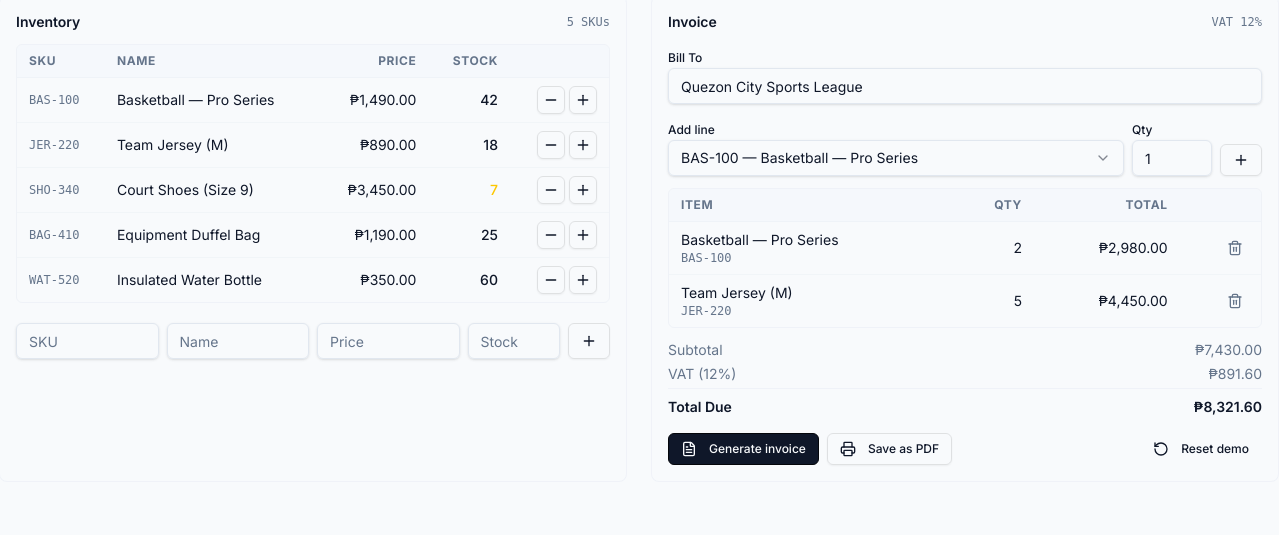
Scenario: ErpDemo (component) › reset restores seed inventory and seed invoice lines
Click the button named "Increase stock for Basketball — Pro Series": [583, 100] box x1=569 y1=86 x2=597 y2=114
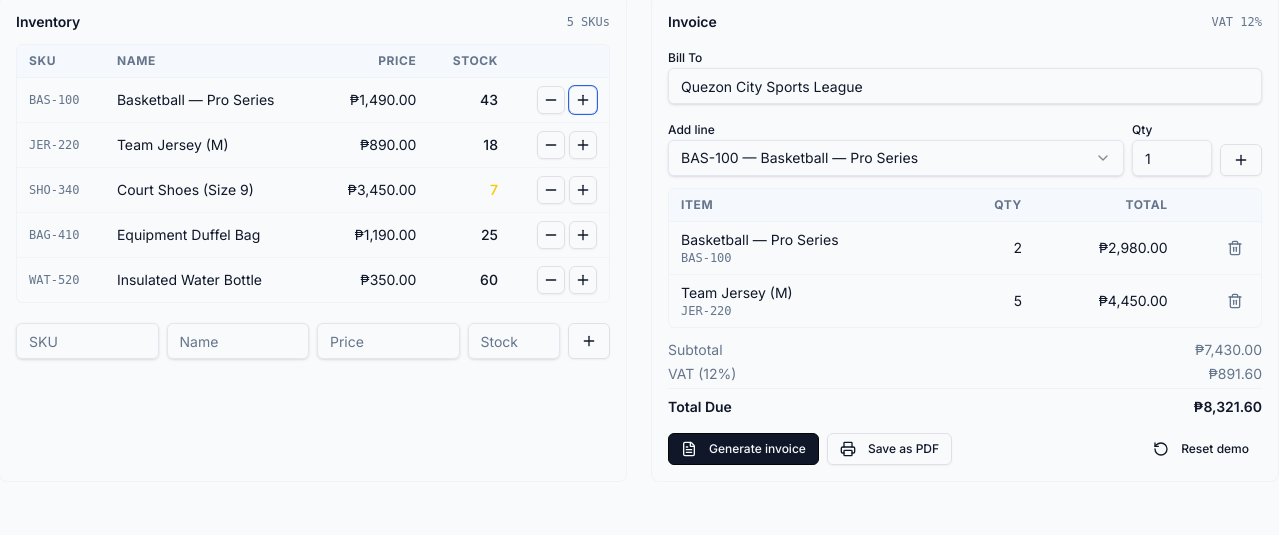
Click the button named "Increase stock for Basketball — Pro Series": [583, 100] box x1=569 y1=86 x2=597 y2=114
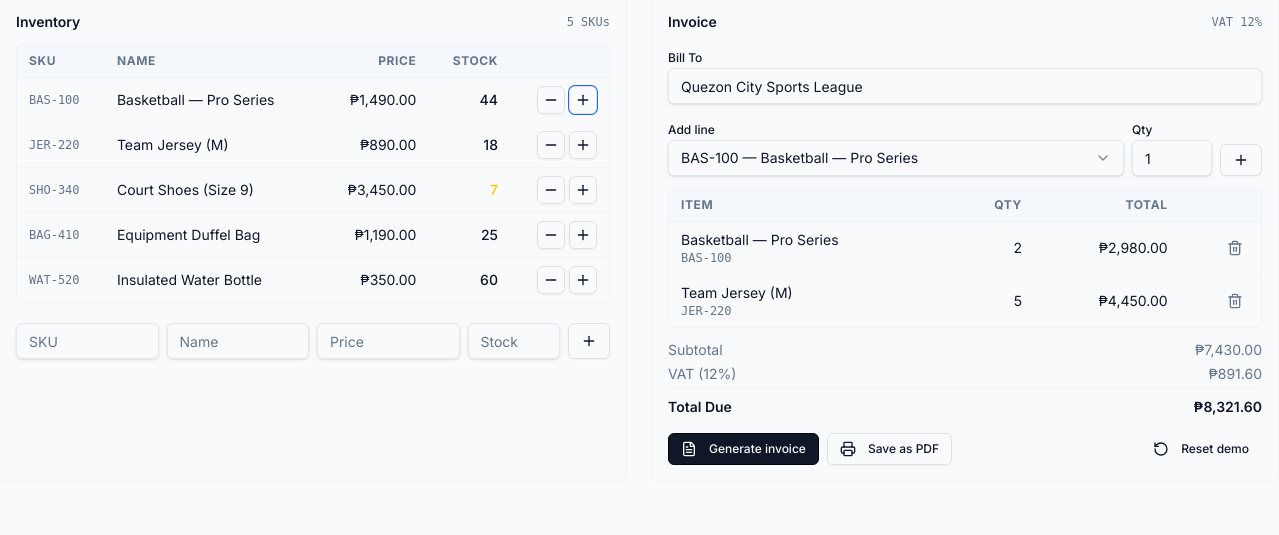
Click the dropdown named "add line": [896, 158] box x1=668 y1=140 x2=1124 y2=176
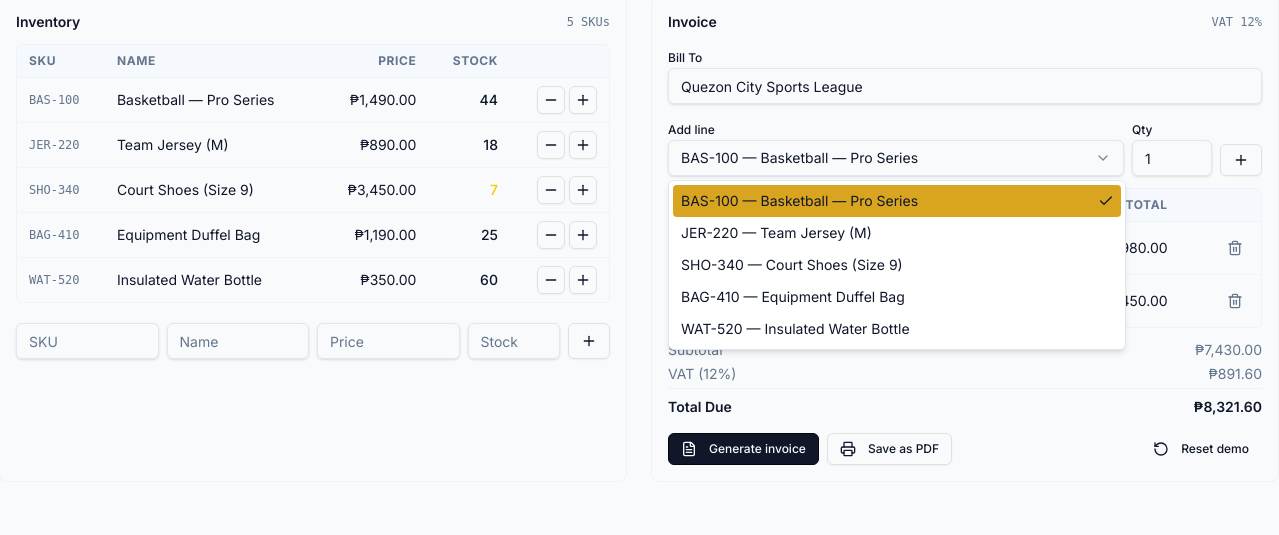
Click the option "BAG-410 — Equipment Duffel Bag": [793, 296] box x1=681 y1=288 x2=905 y2=305
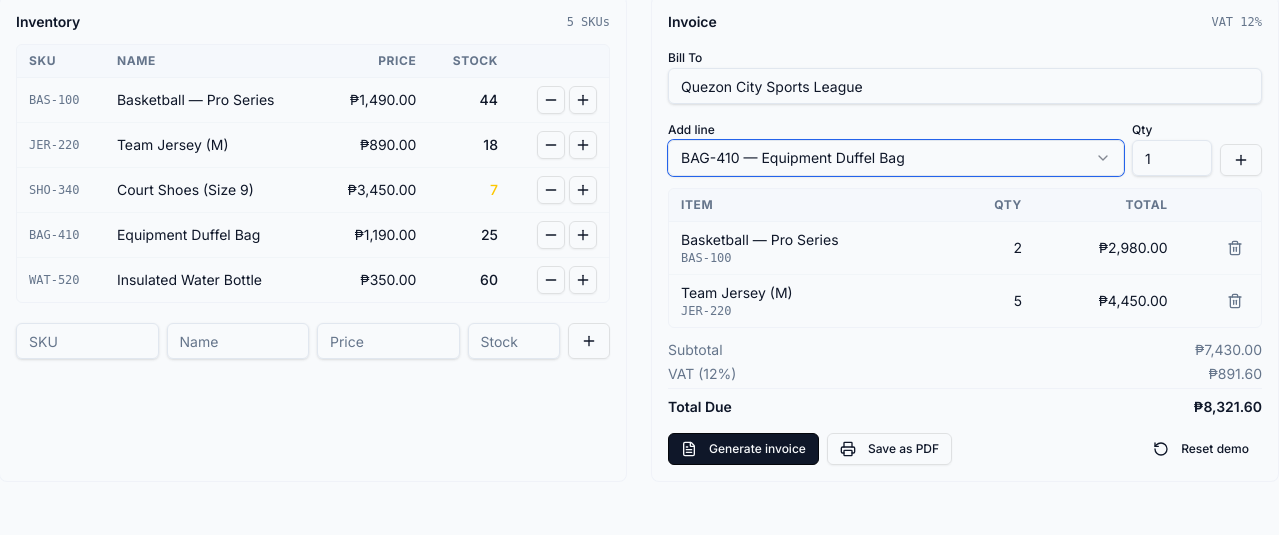
Click the button named "add invoice line": [1241, 160] box x1=1220 y1=144 x2=1262 y2=176
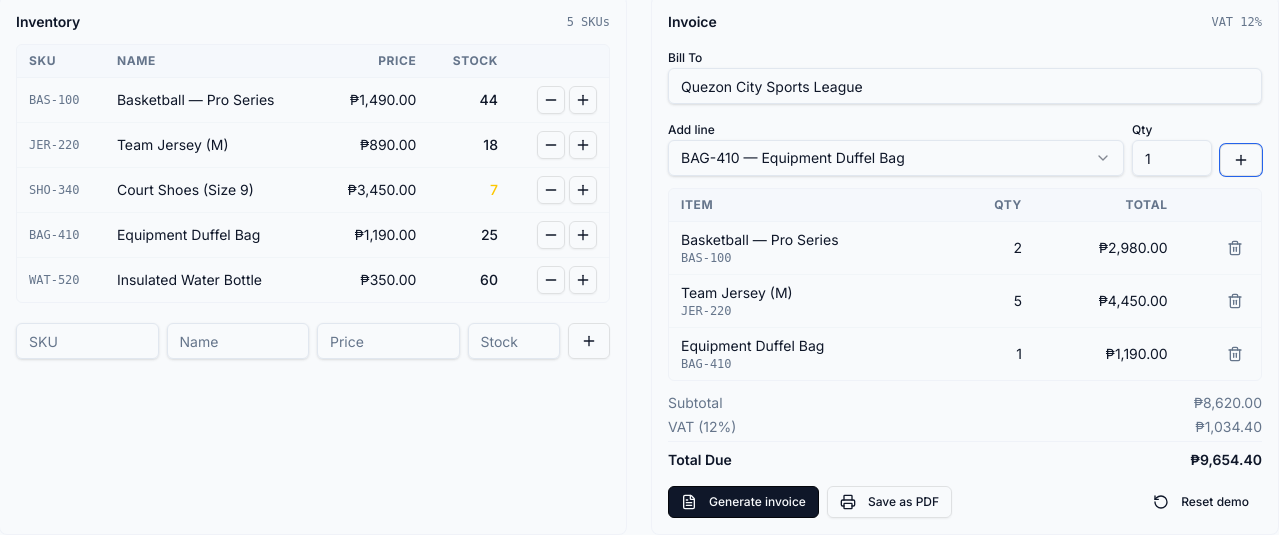
Click the button "Reset demo": [1201, 502] box x1=1140 y1=486 x2=1262 y2=518
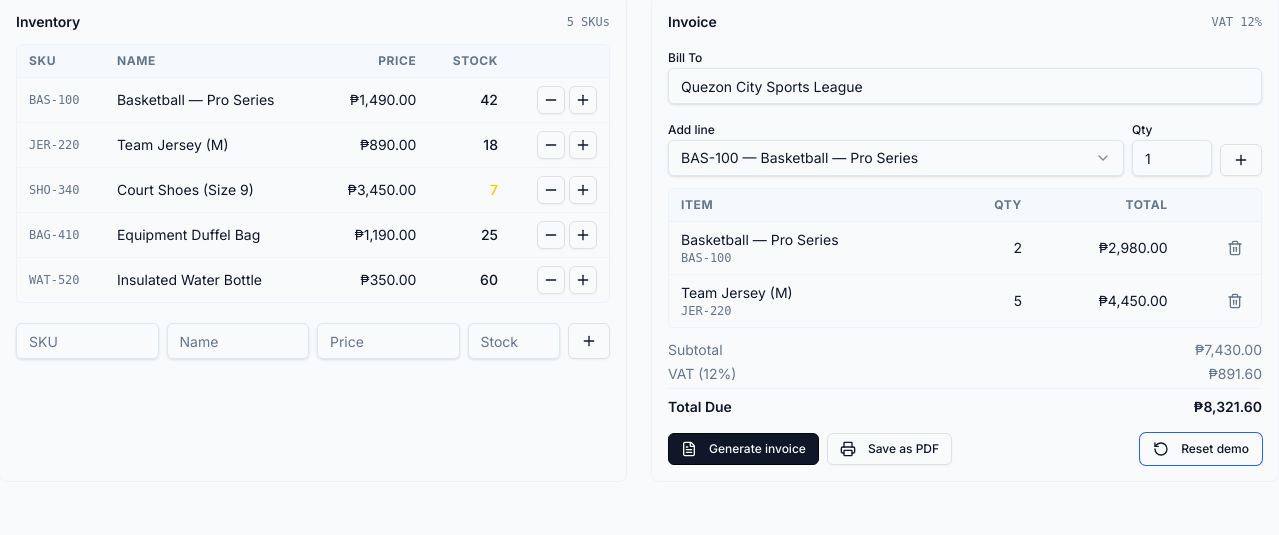
Check: the text "42" is shown, box x1=428 y1=78 x2=510 y2=122
